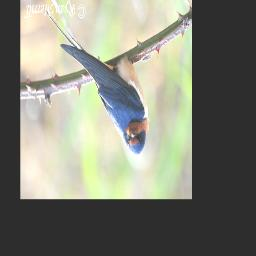Swallow: (44, 7, 150, 156)
